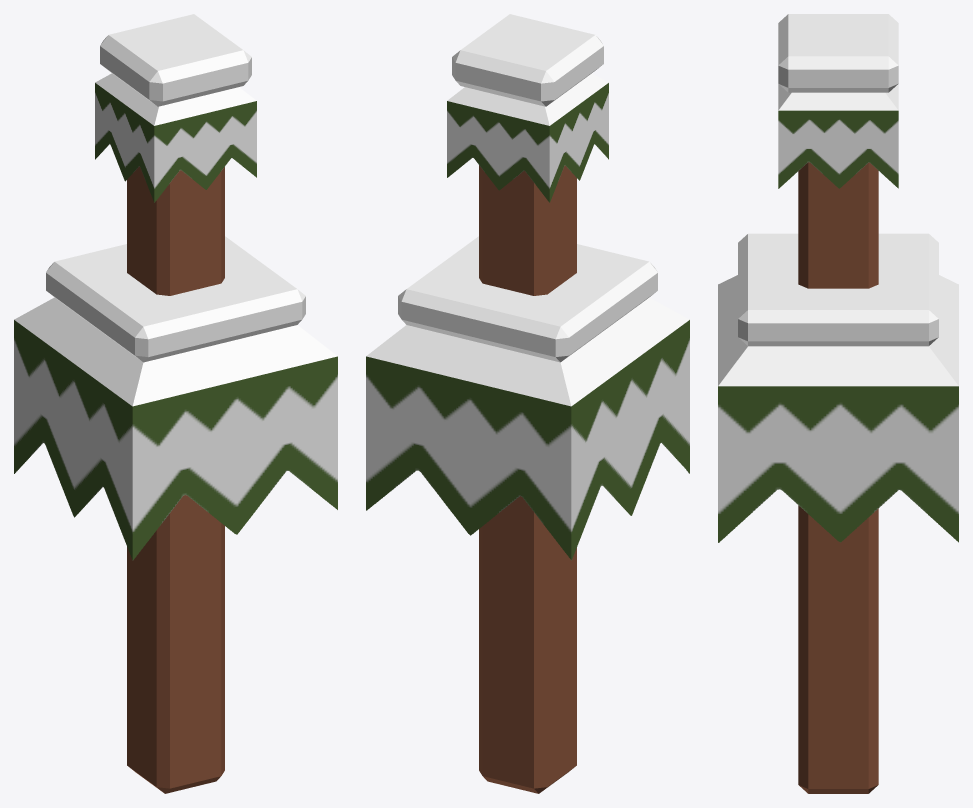
File: Tree 1.fbx
The picture shows the model from 3 angles, left to right: view 1: azimuth 30°, elevation 25°; view 2: azimuth 150°, elevation 25°; view 3: azimuth 270°, elevation 25°; orthographic projection.
Visible parts, largest first — view 1: Tree_Crown_2, Trunk_1, Snow_2, Tree_Crown_1, Snow_1; view 2: Tree_Crown_2, Trunk_1, Snow_2, Tree_Crown_1, Snow_1; view 3: Tree_Crown_2, Trunk_1, Snow_2, Tree_Crown_1, Snow_1.
Part boxes in pixels (bbox=[...]): Tree_Crown_2: bbox=[14, 297, 337, 560]; Trunk_1: bbox=[127, 166, 224, 793]; Snow_2: bbox=[46, 236, 305, 362]; Tree_Crown_1: bbox=[95, 73, 256, 202]; Snow_1: bbox=[100, 14, 251, 106]; Tree_Crown_2: bbox=[366, 297, 689, 560]; Trunk_1: bbox=[479, 165, 576, 793]; Snow_2: bbox=[398, 236, 657, 362]; Tree_Crown_1: bbox=[447, 73, 608, 202]; Snow_1: bbox=[452, 14, 603, 106]; Tree_Crown_2: bbox=[718, 275, 958, 542]; Trunk_1: bbox=[798, 162, 878, 793]; Snow_2: bbox=[738, 233, 938, 346]; Tree_Crown_1: bbox=[778, 84, 898, 188]; Snow_1: bbox=[778, 14, 898, 92].
Bounding box in the file's own units: 0.6 × 2.05 × 0.6.
